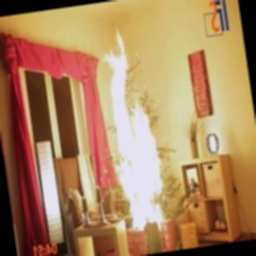fire: (91, 23, 177, 235)
